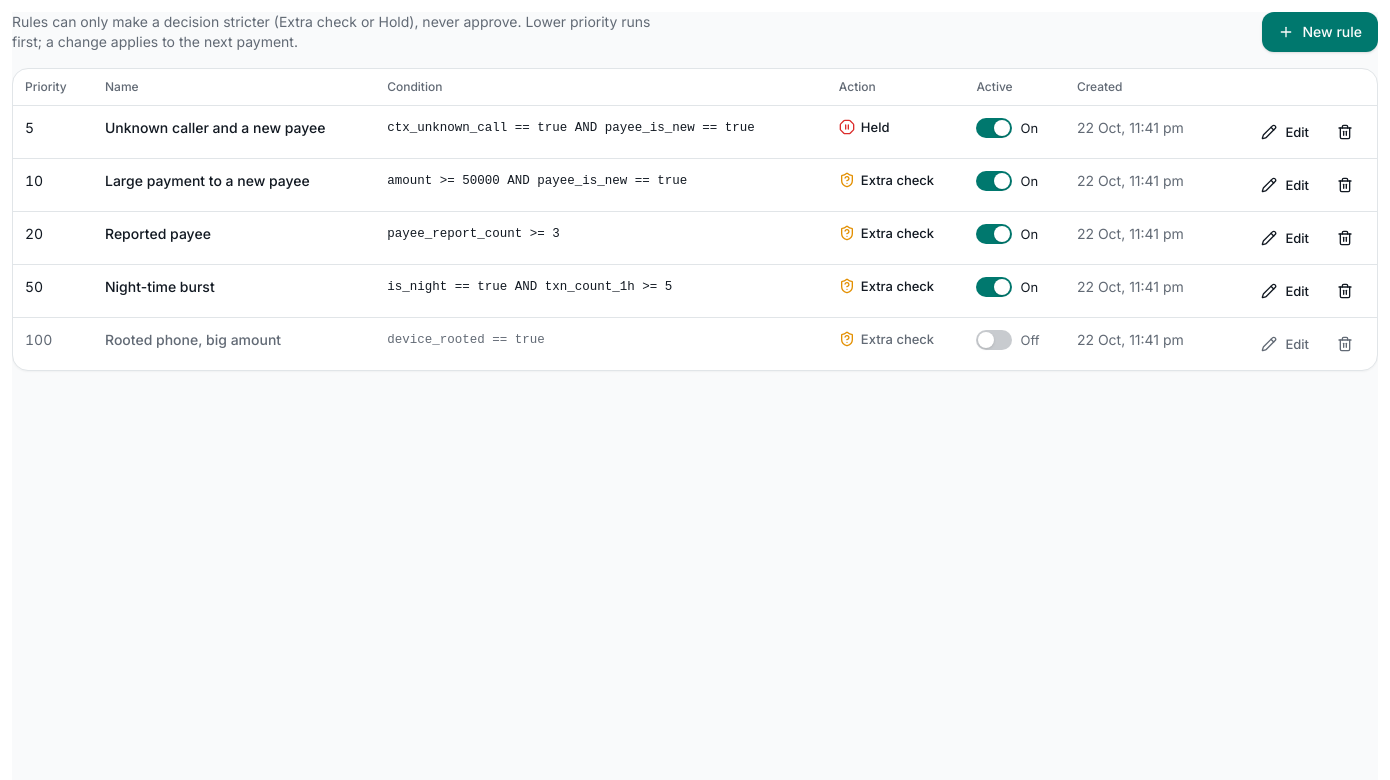
Test: Rules Manager (spec 06 §3, §4) › rejects an invalid rule before submit and sends nothing
The width and height of the screenshot is (1390, 780).
Click the button "New rule" at (1320, 32), box [1262,12,1378,52]
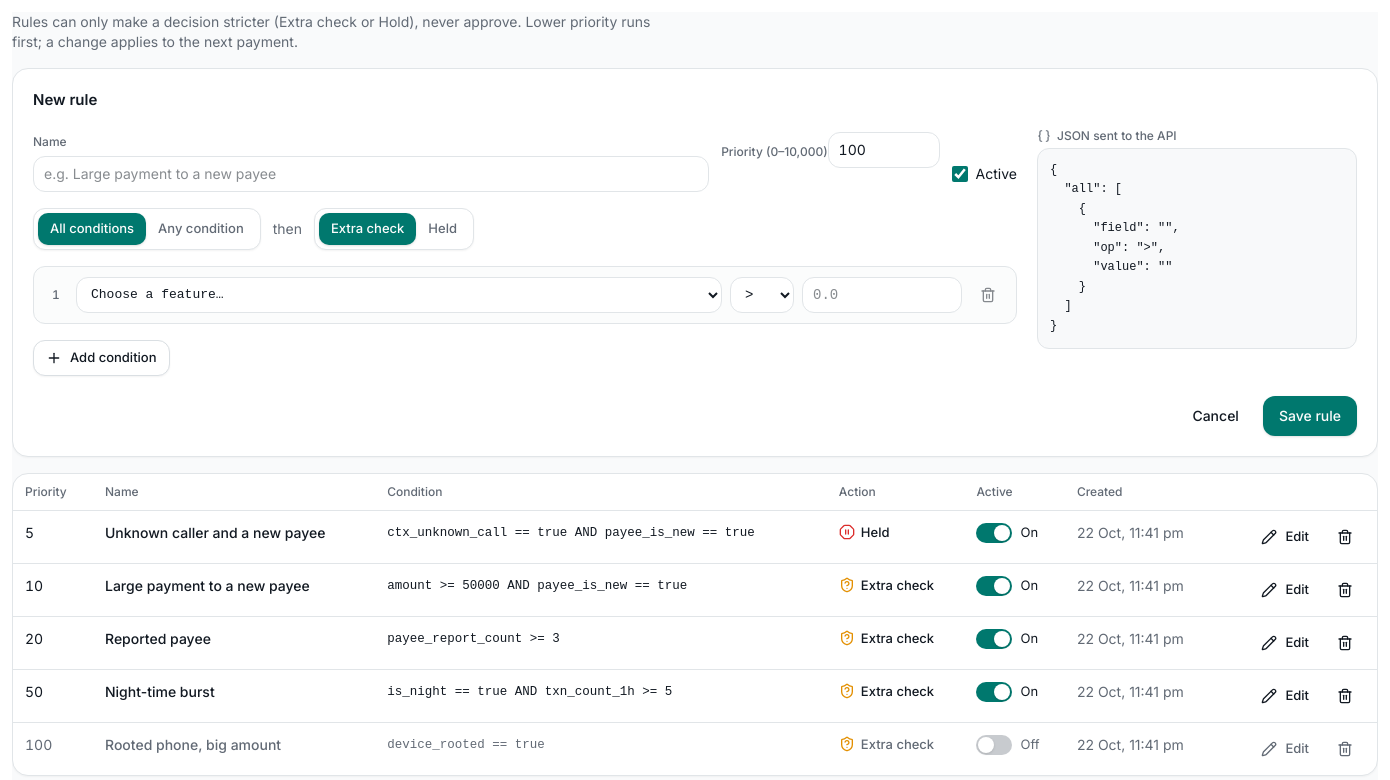
Select "payee_is_new" in the dropdown named "Feature, condition 1" at (399, 294), box [76,276,722,312]
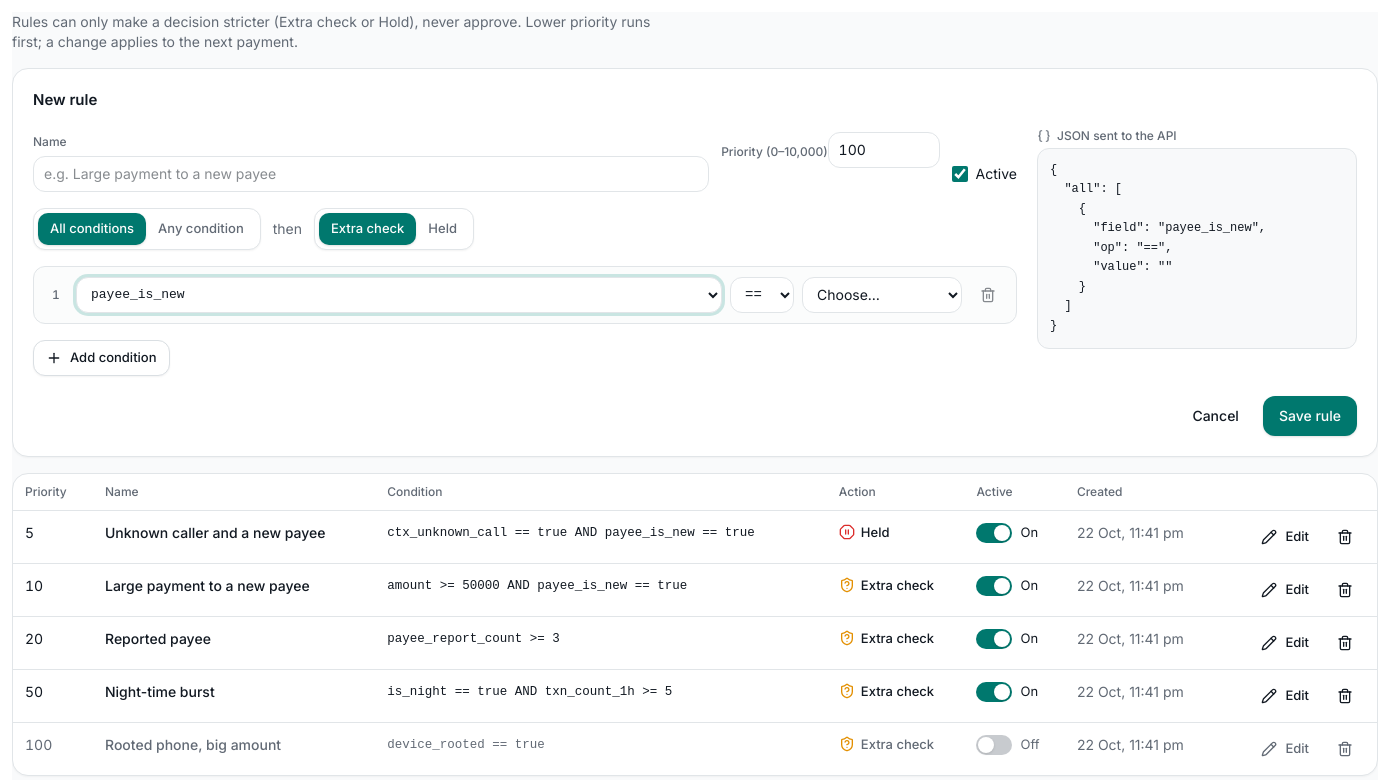
Click the button "Save rule" at (1310, 416), box [1263,396,1357,436]
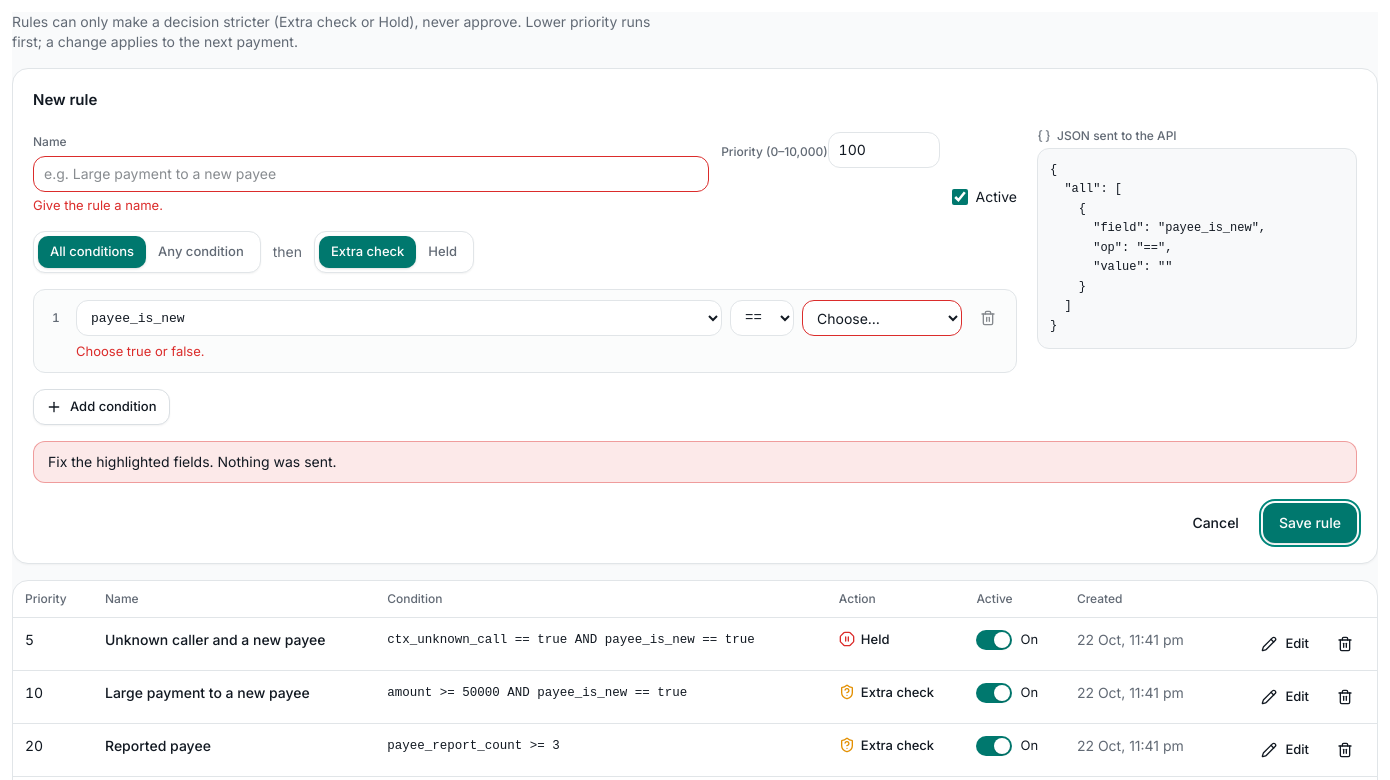
expect the text "Give the rule a name." is shown: met, box [33,196,163,212]
expect the text "Choose true or false." is shown: met, box [76,343,204,359]
expect the text "Fix the highlighted fields. Nothing was sent." is shown: met, box [33,440,1357,482]
